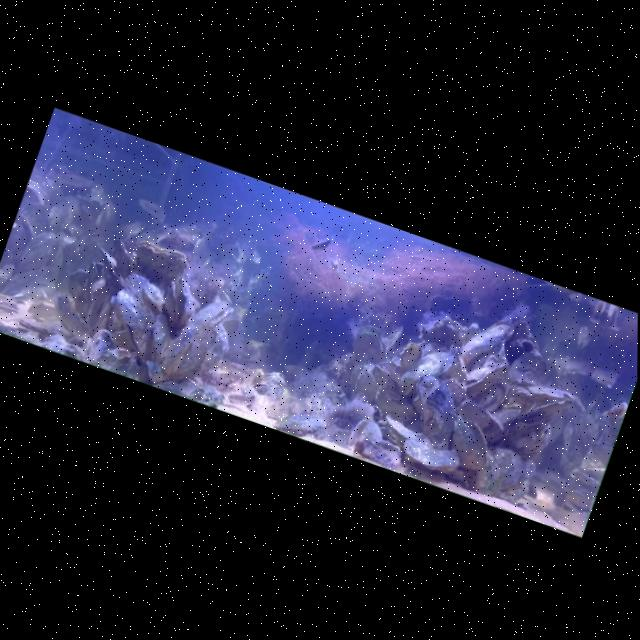Oyster-Closed: (99, 268, 172, 361), (398, 369, 470, 452), (395, 338, 455, 408), (457, 309, 516, 376), (396, 431, 463, 479), (179, 321, 220, 387), (478, 443, 529, 495), (461, 349, 508, 405), (13, 309, 75, 347), (157, 320, 197, 378), (140, 311, 180, 368), (379, 413, 435, 452), (469, 448, 511, 498), (369, 390, 420, 426), (438, 342, 477, 385), (90, 246, 126, 282)
Oyster-Indeterminate: (12, 222, 62, 286), (53, 264, 103, 322), (508, 373, 575, 415), (522, 386, 572, 437), (417, 310, 470, 355), (197, 323, 234, 383), (3, 212, 40, 262), (471, 371, 513, 415), (103, 237, 144, 282), (45, 289, 86, 331), (453, 395, 495, 432), (435, 373, 473, 413), (365, 436, 406, 471), (154, 224, 196, 258), (82, 326, 116, 368), (487, 396, 525, 431), (394, 338, 426, 374), (366, 364, 401, 392)
Oyster-Open: (439, 411, 499, 474), (129, 236, 191, 285), (158, 274, 204, 330), (346, 319, 395, 370), (344, 415, 387, 458), (191, 293, 234, 333), (19, 178, 56, 215), (250, 378, 272, 396)
